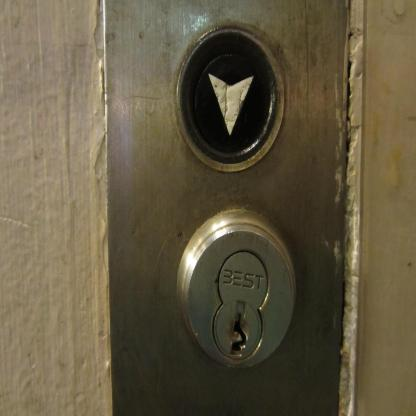down: (175, 26, 285, 173)
keyhole: (174, 206, 298, 370)
